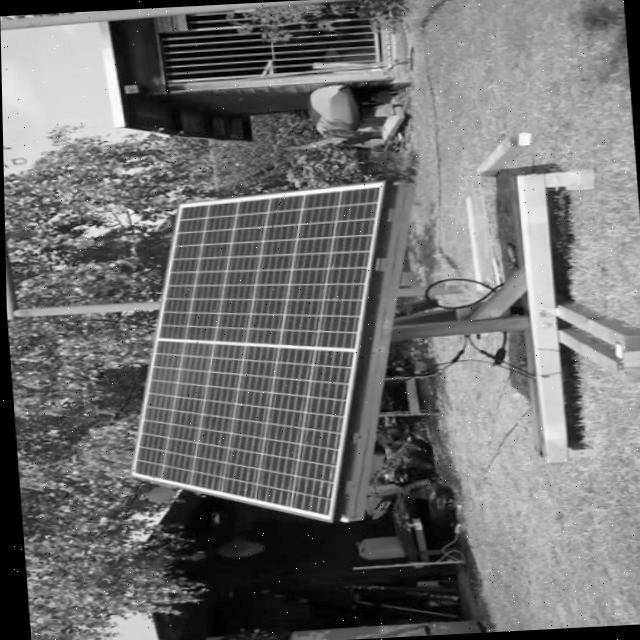Normal Solar Panel: (111, 182, 405, 532)
